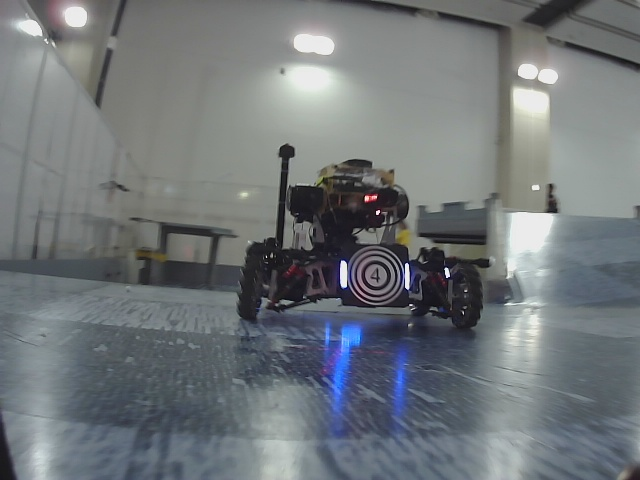lamp: (339, 261, 348, 289), (405, 264, 410, 289)
pair: (340, 260, 410, 289)
